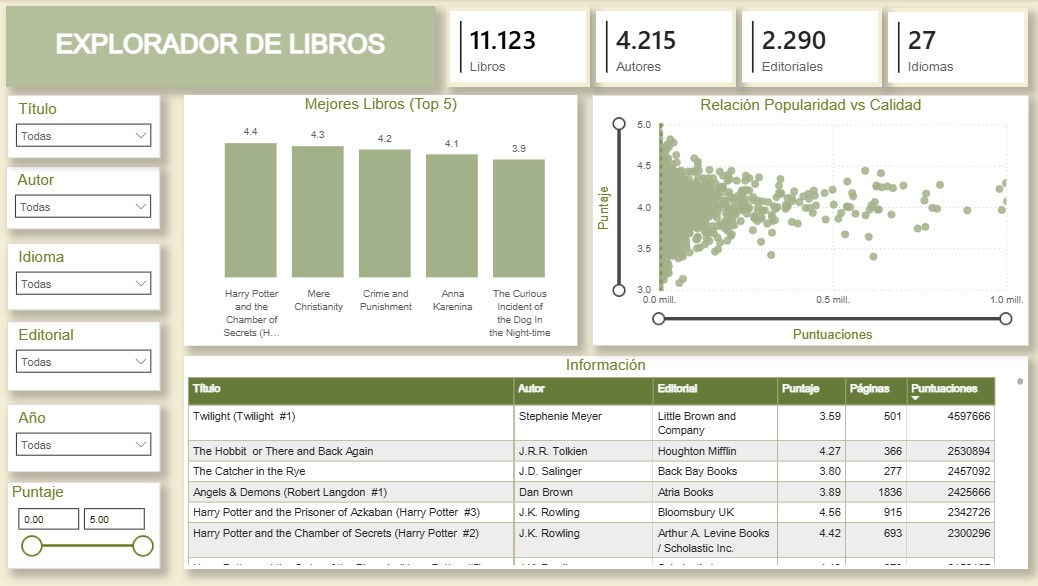

The page's visual inventory and layout, read from the dashboard file:
{"tool":"powerbi","page":{"name":"Página 1","canvas":[1280,720],"ordinal":0},"visuals":[{"type":"cardVisual","title":"Libros","fields":{"Data":["_Medidas.Total_Libros"]},"box":[550.5,9.6,176.2,97.7],"z":0},{"type":"cardVisual","fields":{"Data":["_Medidas.Total_Autores"]},"box":[728.1,9.6,176.2,97.7],"z":1000},{"type":"cardVisual","fields":{"Data":["_Medidas.Total_Editoriales"]},"box":[907,9.6,176.2,97.7],"z":2000},{"type":"cardVisual","fields":{"Data":["_Medidas.Total_Idiomas"]},"box":[1084.6,11,176.2,96.3],"z":3000},{"type":"textbox","box":[13.4,8.5,523.5,98.8],"z":4000},{"type":"slicer","fields":{"Values":["publishers.publisher_name"]},"box":[15.1,393.2,187.2,85.4],"z":5000},{"type":"slicer","fields":{"Values":["authors.author_name"]},"box":[13.8,203.5,188.4,76.6],"z":6000},{"type":"slicer","fields":{"Values":["languages.language_code"]},"box":[15.1,297.7,187.2,81.6],"z":7000},{"type":"slicer","fields":{"Values":["books.publication_date.Variación.Jerarquía de fechas.Año"]},"box":[15.1,493.7,187.2,82.9],"z":8000},{"type":"clusteredColumnChart","title":"Mejores Libros (Top 5)","fields":{"Category":["books.title"],"Y":["Avg(books.avg_rating)"]},"box":[231.2,117,480.3,305.5],"z":9000},{"type":"pivotTable","title":"Información","fields":{"Rows":["books.title"],"Values":["Min(authors.author_name)","Min(publishers.publisher_name)","Avg(books.avg_rating)","Sum(books.num_pages)","Sum(books.rating_counts)"]},"box":[230.6,435.7,1030,259.9],"z":10000},{"type":"scatterChart","title":"Relación Popularidad vs Calidad","fields":{"Category":["books.title"],"X":["Sum(books.rating_counts)"],"Y":["Avg(books.avg_rating)"]},"box":[728.1,117,532.6,305.5],"z":11000},{"type":"slicer","title":"Puntaje","fields":{"Values":["books.avg_rating"]},"box":[15.1,589.1,187.2,105.5],"z":12000},{"type":"slicer","fields":{"Values":["books.title"]},"box":[15.1,116.8,187.2,76.6],"z":13000}]}

Visuals, with their boxes in screenshot pixels (x1, y1, x2, y2), scaled from the page's 1280x720 canvas onto the 1038x586 screenshot:
"Libros" cardVisual: [446,8,589,87]
cardVisual - _Medidas.Total_Autores: [590,8,733,87]
cardVisual - _Medidas.Total_Editoriales: [736,8,878,87]
cardVisual - _Medidas.Total_Idiomas: [880,9,1022,87]
textbox: [11,7,435,87]
slicer - publishers.publisher_name: [12,320,164,390]
slicer - authors.author_name: [11,166,164,228]
slicer - languages.language_code: [12,242,164,309]
slicer - books.publication_date.Variación.Jerarquía de fechas.Año: [12,402,164,469]
"Mejores Libros (Top 5)" clusteredColumnChart: [187,95,577,344]
"Información" pivotTable: [187,355,1022,566]
"Relación Popularidad vs Calidad" scatterChart: [590,95,1022,344]
"Puntaje" slicer: [12,479,164,565]
slicer - books.title: [12,95,164,157]
